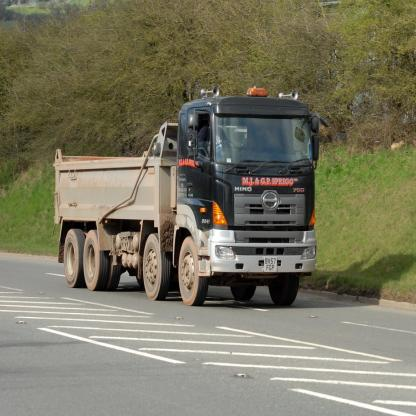dump_truck: (49, 82, 330, 309)
